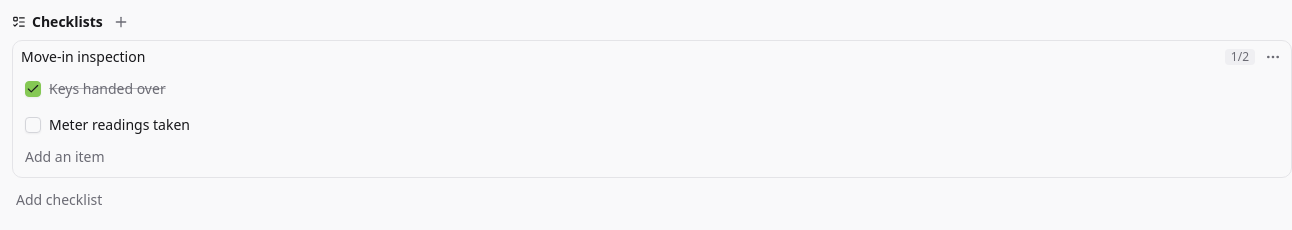
Scenario: TaskChecklists › answers Escape in its own box, so the task panel stays open
Click the button "Add an item": (65, 157) [21,143,109,171]
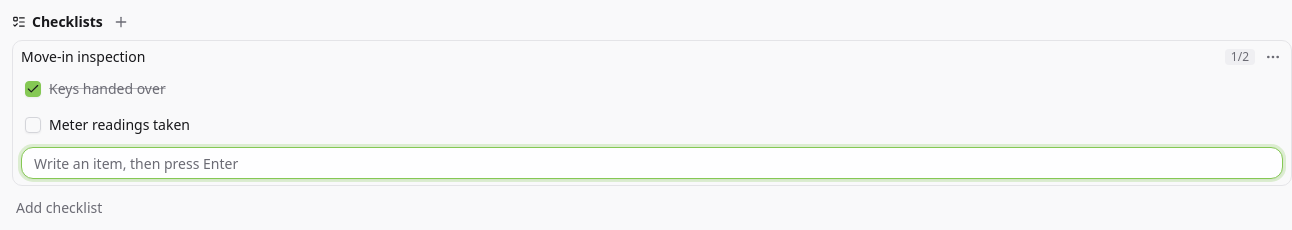
Press Escape
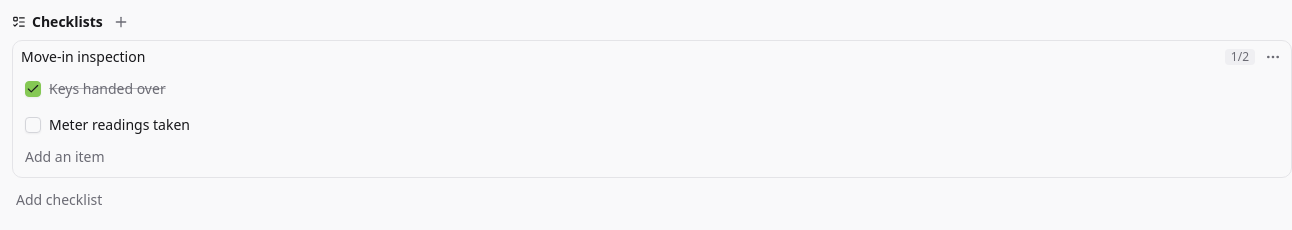
Result: the field is gone
